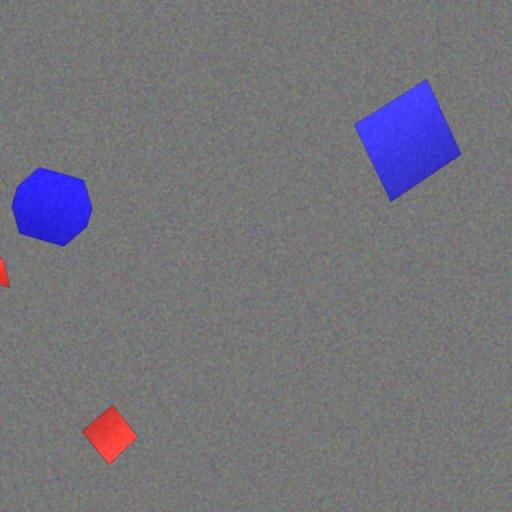BLUE_SQUARE: (354, 78, 462, 202)
RED_SQUARE: (81, 404, 138, 466)
